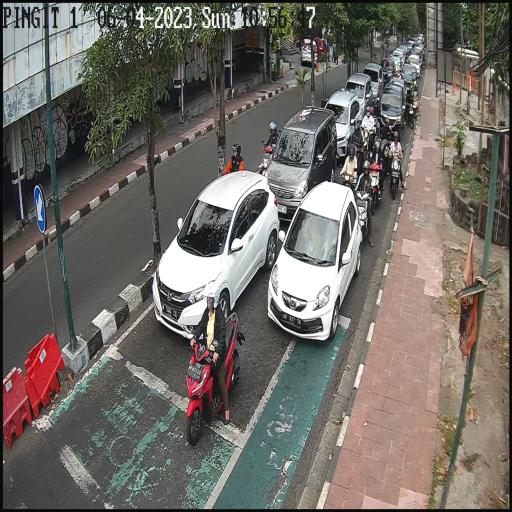mobil: (151, 171, 276, 340), (270, 180, 362, 340), (262, 105, 338, 214), (322, 89, 360, 161), (377, 86, 405, 140), (342, 72, 372, 118), (362, 60, 383, 101), (376, 55, 396, 88)
motor: (185, 322, 247, 443), (350, 187, 373, 248), (259, 141, 275, 189), (389, 151, 404, 201), (368, 162, 381, 210), (340, 168, 357, 204), (361, 124, 374, 166), (406, 100, 416, 130)
